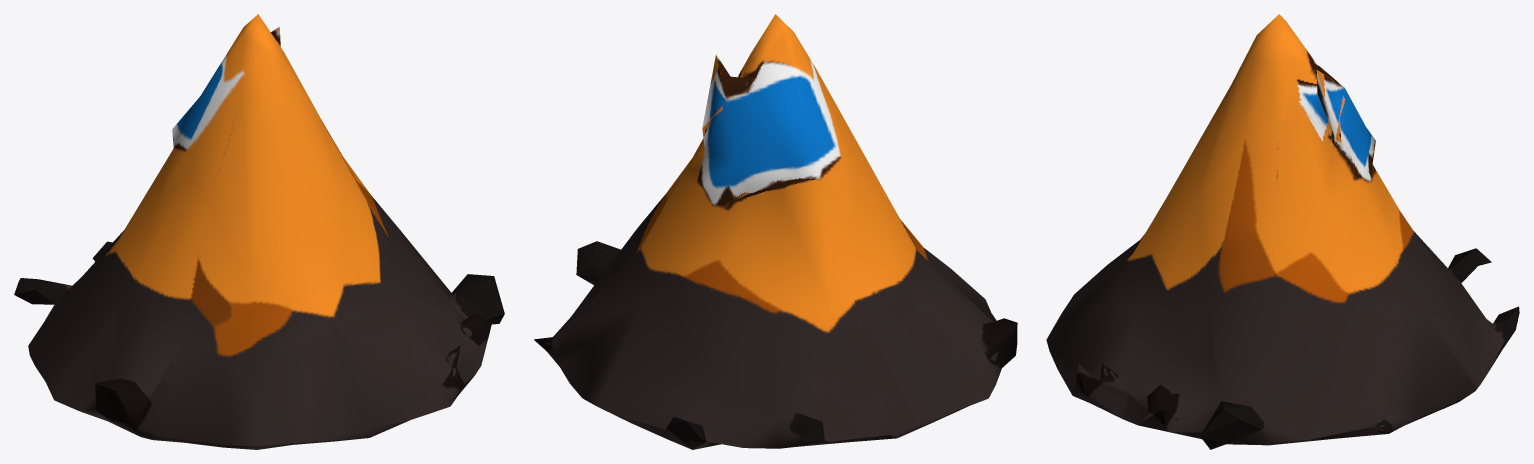
Rendered from ash-pile.glb.
The picture shows the model from 3 angles, left to right: view 1: azimuth 30°, elevation 25°; view 2: azimuth 150°, elevation 25°; view 3: azimuth 270°, elevation 25°; orthographic projection.
Visible parts, largest first — view 1: geometry_0.001; view 2: geometry_0.001; view 3: geometry_0.001.
Part boxes in pixels (x1,y1,x2,y2): geometry_0.001: (14, 14, 504, 449); geometry_0.001: (534, 14, 1017, 449); geometry_0.001: (1046, 14, 1519, 449).
Size of the model in its own units: 0.9969 by 0.7626 by 0.9646.
Materials: 1 (1 with a texture image).
